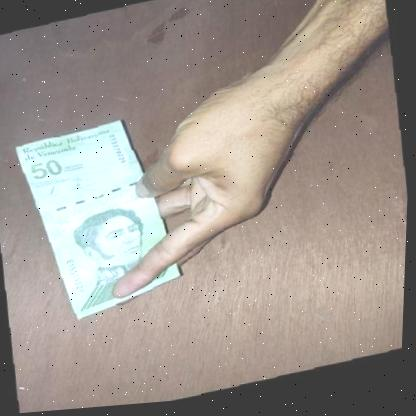fifty-front-vef: (9, 112, 190, 332)
